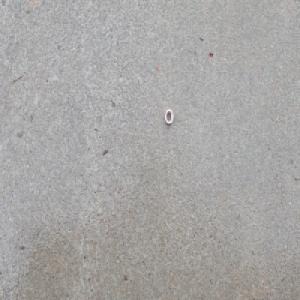Nut: (164, 108, 174, 125)
